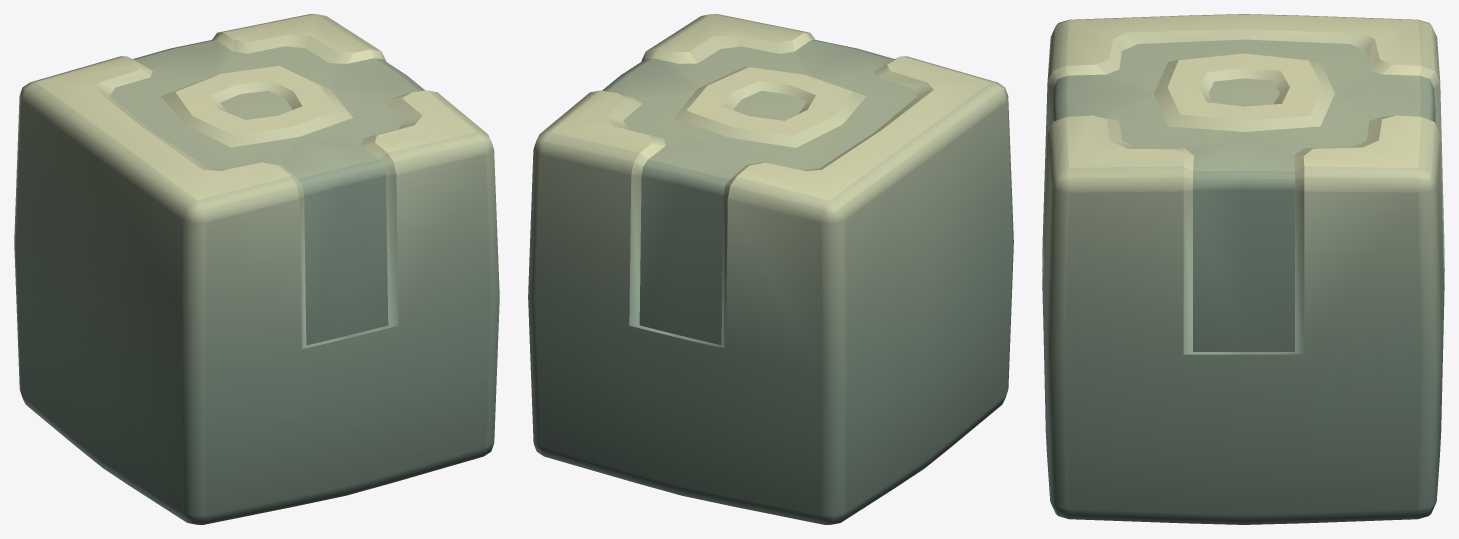
The model's file is Stone_Free3.fbx.
The picture shows the model from 3 angles, left to right: view 1: azimuth 30°, elevation 25°; view 2: azimuth 150°, elevation 25°; view 3: azimuth 270°, elevation 25°; orthographic projection. The views are drawn at different scales.
Parts seen in each view (by area): view 1: Stone_Free3_LOD0; view 2: Stone_Free3_LOD0; view 3: Stone_Free3_LOD0.
Part boxes in pixels (bbox=[...]): Stone_Free3_LOD0: bbox=[14, 14, 499, 524]; Stone_Free3_LOD0: bbox=[528, 14, 1013, 524]; Stone_Free3_LOD0: bbox=[1042, 14, 1444, 524].
Size of what is drawn, in the model's own units: 1.09 by 1.09 by 1.09.
